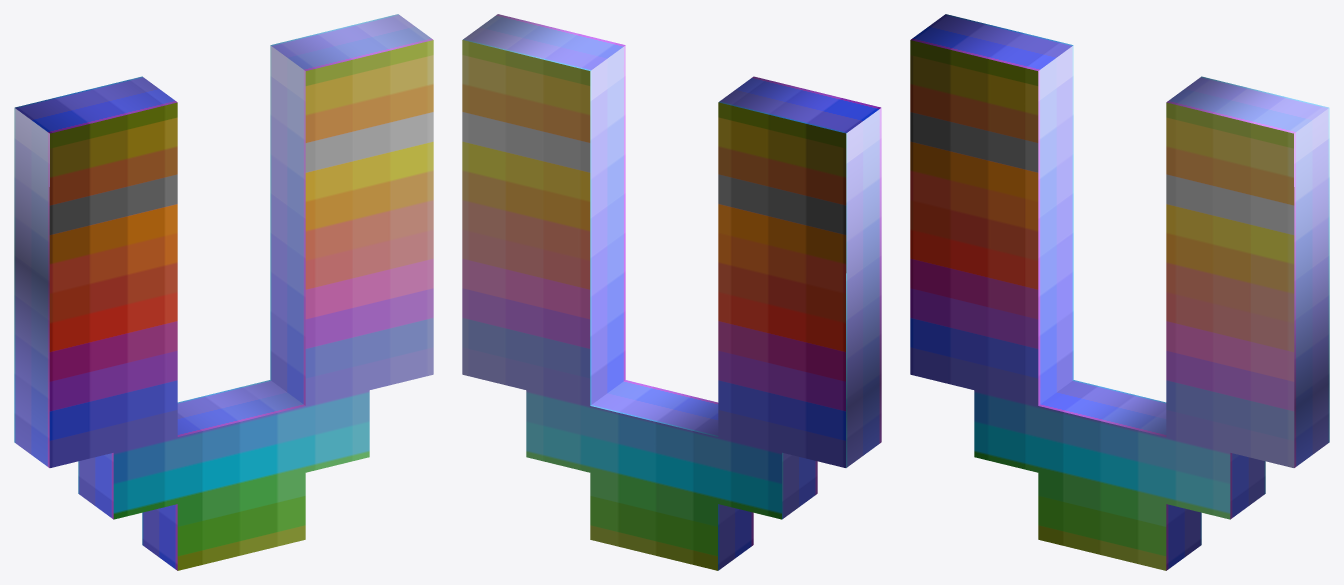
3 renders of one model, left to right at view 1: azimuth 30°, elevation 25°; view 2: azimuth 150°, elevation 25°; view 3: azimuth 330°, elevation 25°, orthographic.
Parts seen in each view (by area): view 1: v; view 2: v; view 3: v.
Part boxes in pixels (box(x1,y1,x2,y2)): v: box(14, 14, 433, 570); v: box(462, 14, 881, 570); v: box(910, 14, 1329, 570).
Bounding box in the file's own units: 0.5 × 0.5834 × 0.0803.
Materials: 1 (1 with a texture image).
